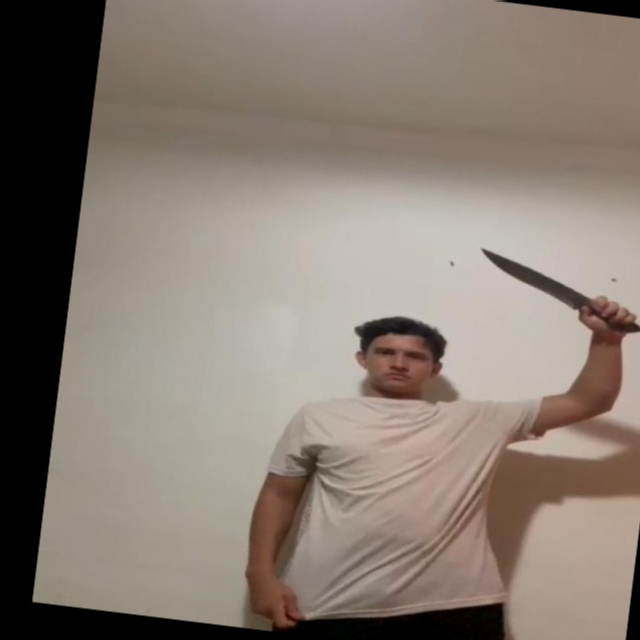Sharp-Object: (473, 247, 587, 303)
